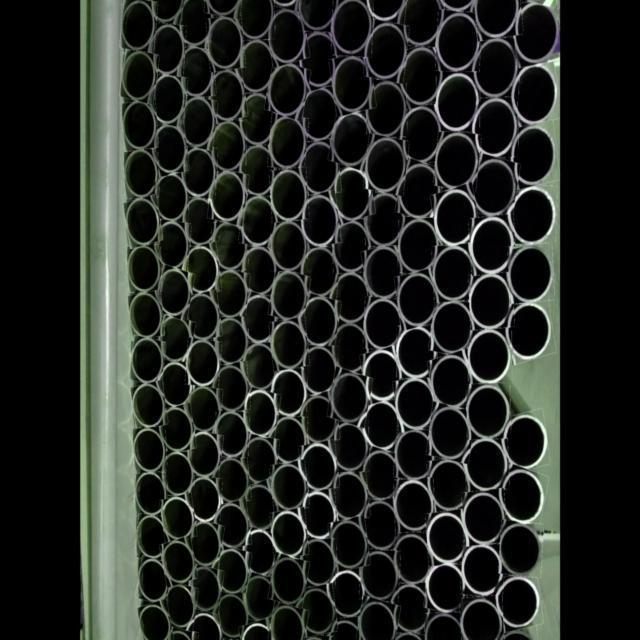pipe: (513, 64, 557, 124), (436, 12, 481, 70), (474, 98, 518, 156), (475, 38, 519, 96), (516, 3, 559, 62), (510, 187, 556, 242), (436, 73, 480, 130), (470, 217, 515, 272), (508, 304, 552, 359), (473, 159, 517, 214), (509, 248, 553, 302), (401, 47, 442, 104), (467, 385, 511, 438), (470, 275, 514, 328), (502, 470, 545, 524), (436, 133, 479, 187), (435, 189, 476, 245), (504, 416, 548, 468), (464, 440, 508, 492), (515, 127, 555, 184), (366, 23, 407, 78), (469, 331, 511, 384), (403, 106, 442, 162), (366, 138, 406, 192), (332, 0, 372, 54), (464, 494, 507, 544), (332, 113, 372, 166), (497, 579, 540, 628), (368, 81, 406, 136), (432, 408, 472, 460), (435, 247, 474, 300), (433, 302, 474, 352), (463, 546, 503, 596), (428, 514, 468, 564), (334, 56, 371, 110), (430, 461, 469, 512), (399, 274, 437, 326), (399, 220, 437, 272), (399, 164, 437, 216), (501, 525, 541, 574), (395, 482, 434, 532), (434, 356, 472, 406), (402, 0, 444, 45), (333, 167, 370, 218), (269, 64, 306, 115), (396, 380, 435, 428), (303, 88, 339, 140), (397, 328, 434, 378), (367, 194, 404, 244), (301, 142, 337, 193), (270, 9, 304, 62), (269, 117, 305, 167), (426, 566, 463, 614), (365, 300, 402, 348), (396, 535, 432, 584), (365, 247, 401, 296), (303, 195, 338, 245), (332, 374, 368, 422), (270, 222, 306, 270), (365, 351, 399, 401), (335, 273, 369, 323), (365, 403, 401, 450), (301, 444, 337, 491), (396, 432, 431, 480), (332, 522, 367, 570), (271, 170, 306, 218), (210, 172, 245, 220), (304, 32, 335, 86), (208, 17, 242, 66), (329, 572, 365, 618), (241, 40, 274, 90), (363, 553, 398, 600), (333, 473, 368, 520), (303, 248, 338, 295), (302, 297, 337, 344), (462, 600, 503, 640), (335, 222, 369, 270), (393, 586, 428, 632), (365, 503, 399, 550), (272, 370, 306, 417), (242, 196, 275, 244), (272, 465, 307, 510), (242, 94, 274, 143), (334, 425, 368, 471), (272, 322, 306, 368), (303, 396, 336, 443), (273, 559, 306, 606), (365, 452, 397, 500), (334, 324, 366, 372), (212, 70, 243, 119), (273, 272, 306, 318), (212, 223, 245, 269), (182, 97, 214, 144), (123, 51, 155, 98), (242, 146, 273, 194), (184, 148, 215, 196), (303, 493, 336, 538), (185, 247, 218, 292), (477, 0, 518, 36), (304, 348, 336, 394), (303, 590, 335, 636), (244, 438, 276, 484), (212, 122, 244, 168), (182, 47, 213, 94), (124, 101, 155, 148), (153, 75, 184, 122), (123, 1, 154, 48), (273, 512, 306, 556), (187, 341, 219, 386), (153, 24, 183, 72), (274, 418, 305, 464), (244, 248, 275, 294), (155, 125, 185, 172), (244, 486, 276, 530), (243, 295, 274, 340), (215, 271, 246, 316), (127, 198, 158, 243), (126, 150, 157, 195), (244, 345, 276, 388), (129, 246, 160, 290), (305, 541, 335, 586), (246, 391, 276, 436), (159, 269, 189, 314), (216, 460, 248, 502), (185, 198, 214, 244), (217, 505, 248, 548), (217, 413, 248, 456), (216, 366, 247, 409), (187, 295, 218, 338), (133, 385, 164, 428), (360, 603, 396, 640), (156, 174, 186, 218), (245, 577, 274, 622), (218, 319, 247, 364), (188, 388, 219, 430), (188, 479, 219, 521), (162, 498, 193, 540), (135, 429, 165, 472), (132, 339, 162, 382), (247, 531, 276, 575), (218, 550, 247, 594), (139, 560, 168, 604), (159, 222, 188, 266), (217, 596, 247, 638), (164, 586, 194, 628), (163, 542, 193, 584), (162, 408, 192, 450), (130, 294, 160, 336), (180, 0, 209, 43), (190, 433, 219, 476), (164, 453, 193, 496), (162, 317, 191, 360), (238, 0, 272, 36), (138, 517, 167, 558), (193, 568, 220, 612), (191, 524, 219, 566), (161, 364, 189, 406), (137, 474, 165, 515), (272, 607, 305, 640), (299, 0, 336, 29), (140, 607, 170, 640), (190, 615, 222, 640)
